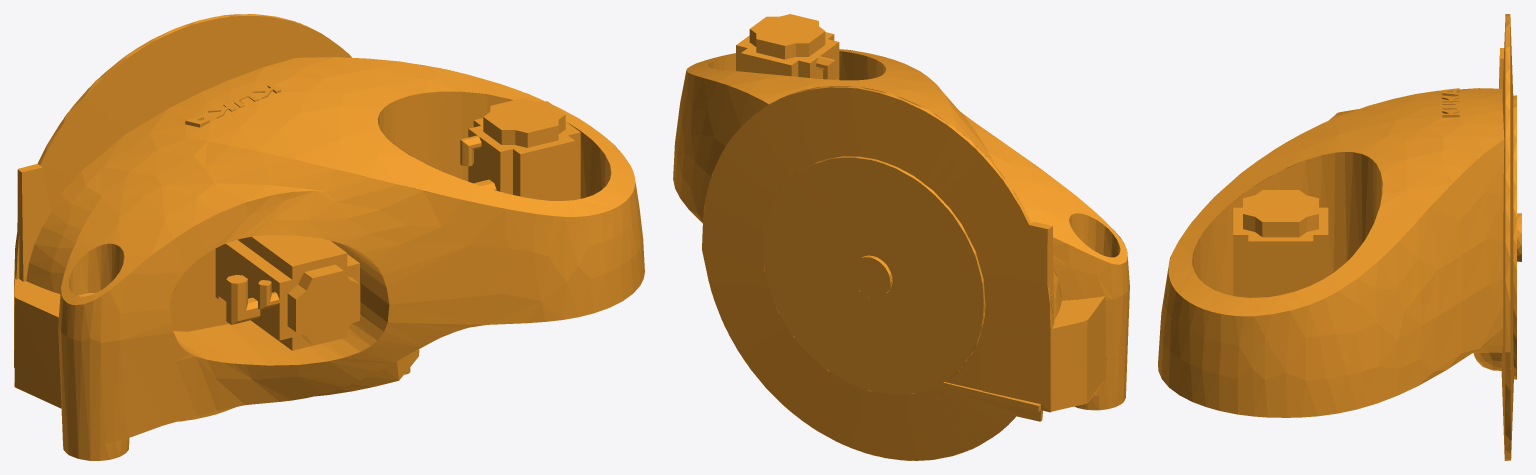
File: Kuka361Link1.dae
3 views of the same model, side by side, from view 1: azimuth 30°, elevation 25°; view 2: azimuth 150°, elevation 25°; view 3: azimuth 270°, elevation 25° (orthographic). The views are drawn at different scales.
Visible parts, largest first — view 1: Kuka361Link1; view 2: Kuka361Link1; view 3: Kuka361Link1.
Part boxes in pixels (x1,y1,x2,y2): Kuka361Link1: (14, 14, 644, 460); Kuka361Link1: (673, 14, 1129, 460); Kuka361Link1: (1158, 14, 1521, 460).
Bounding box in the file's own units: 1.41 × 0.8306 × 1.02.
